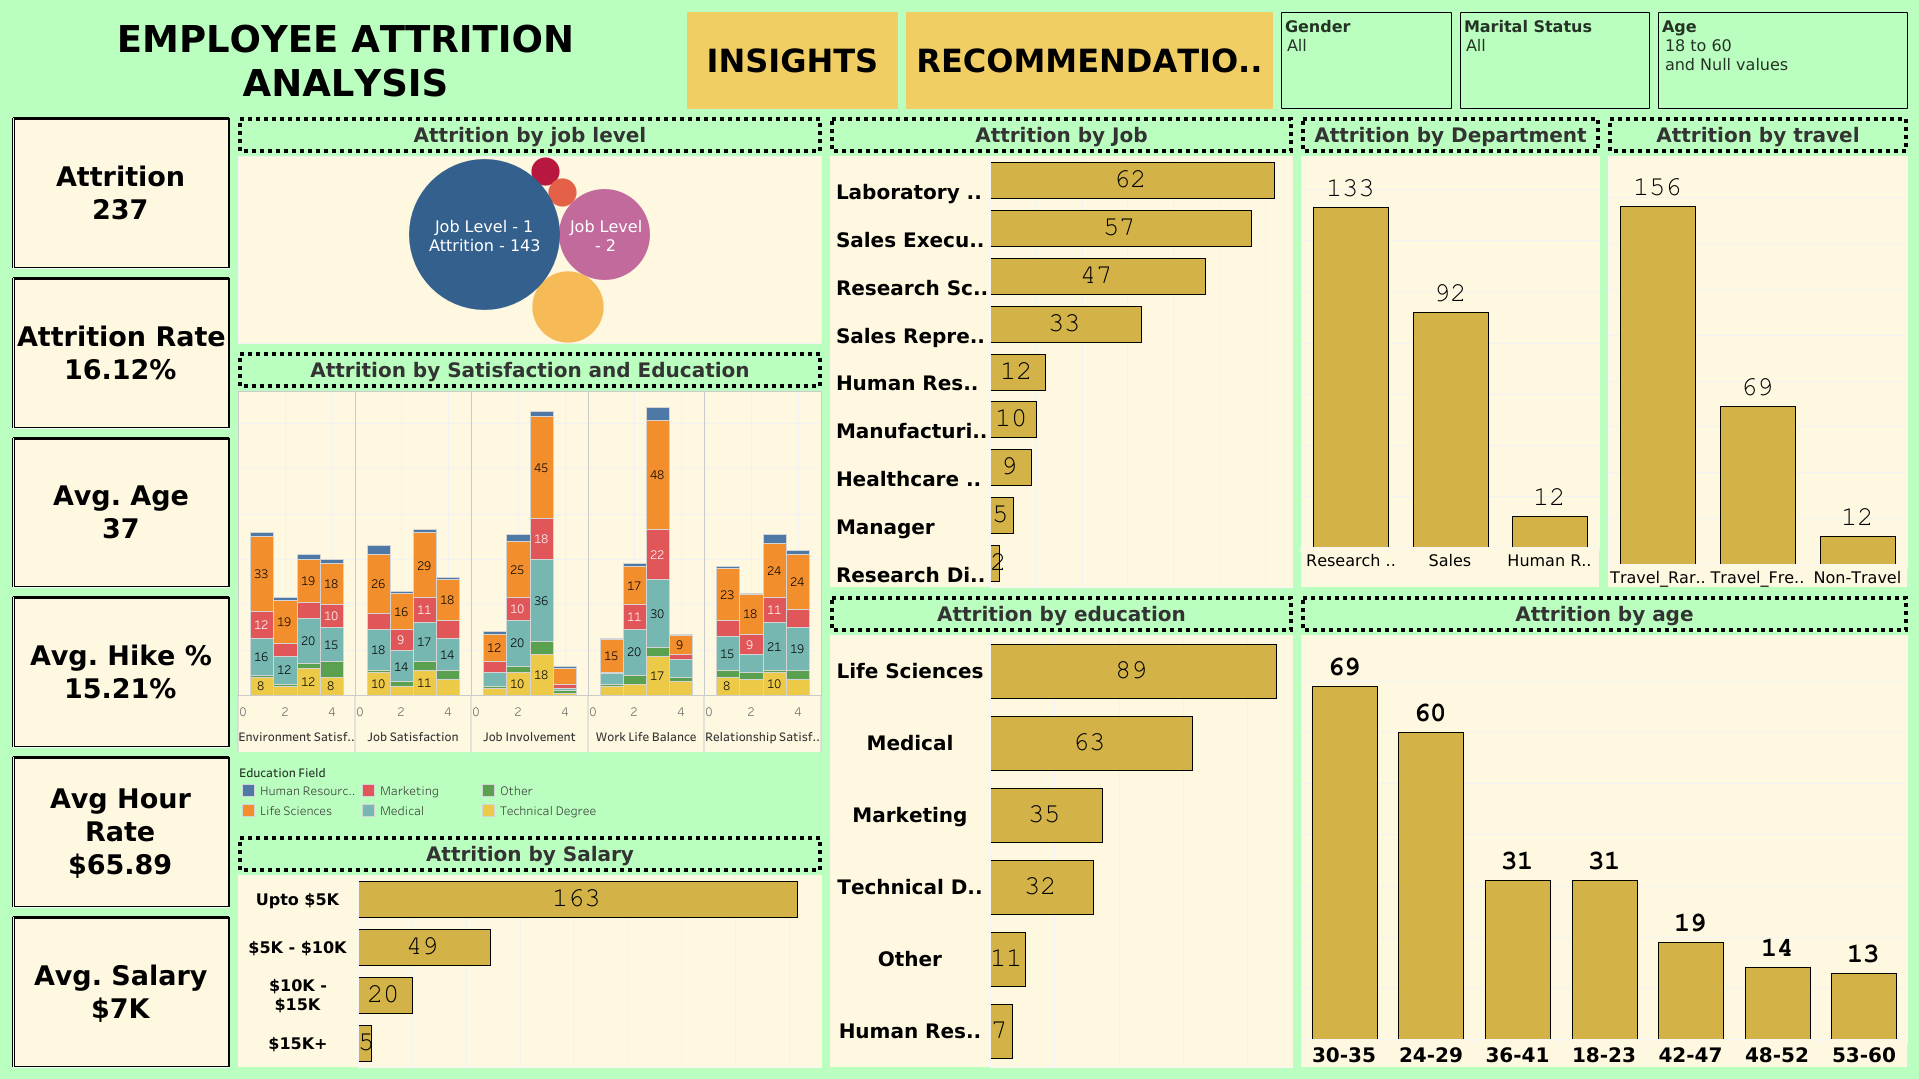

The dashboard page shown, as its layout file describes it:
{"tool":"tableau","page":{"name":"MainDash","canvas":[1920,1080],"ordinal":1},"visuals":[{"type":"text","box":[8,8,675,105]},{"type":"dashboard-object","box":[683,8,219,105]},{"type":"dashboard-object","box":[902,8,375.3,105]},{"type":"filter","title":"Attrition by age","param":"[federated.1jf0bww1b94yxp10xfckc0b016di].[none:Gender:nk]","box":[1277.3,8,179,105]},{"type":"filter","title":"Attrition by age","param":"[federated.1jf0bww1b94yxp10xfckc0b016di].[none:MaritalStatus:nk]","box":[1456.3,8,198,105]},{"type":"filter","title":"Attrition by travel","param":"[federated.1jf0bww1b94yxp10xfckc0b016di].[none:Age:qk]","box":[1654.3,8,257.6,105]},{"type":"worksheet","title":"Attrition","mark":"Automatic","box":[8,113,226,159.8]},{"type":"worksheet","title":"Attrition by job level","mark":"Circle","box":[234,113,592,235]},{"type":"worksheet","title":"Attrition by Job","mark":"Automatic","rows":["JobRole"],"cols":["Calculation_1187261483046543360"],"box":[826,113,471,479.5]},{"type":"worksheet","title":"Attrition by Department","mark":"Automatic","rows":["Calculation_1187261483046543360"],"cols":["Department"],"box":[1297,113,307.5,479.5]},{"type":"worksheet","title":"Attrition by travel","mark":"Automatic","rows":["Calculation_1187261483046543360"],"cols":["BusinessTravel"],"box":[1604.5,113,307.5,479.5]},{"type":"text","box":[675,139,527,314]},{"type":"worksheet","title":"Attrition Rate","mark":"Automatic","box":[8,272.8,226,159.8]},{"type":"worksheet","title":"Attrition by Satisfaction","mark":"Bar","rows":["Calculation_1187261483046543360"],"cols":["EnvironmentSatisfaction","JobSatisfaction","JobInvolvement","WorkLifeBalance","RelationshipSatisfaction"],"box":[234,348,592,409.2]},{"type":"worksheet","title":"Avg. Age","mark":"Automatic","box":[8,432.6,226,159.8]},{"type":"worksheet","title":"Avg Percent Hike","mark":"Automatic","box":[8,592.5,226,159.8]},{"type":"worksheet","title":"Attrition by education","mark":"Automatic","rows":["EducationField"],"cols":["Calculation_1187261483046543360"],"box":[826,592.5,471,479.5]},{"type":"worksheet","title":"Attrition by age","mark":"Automatic","rows":["Calculation_1187261483046543360"],"cols":["Calculation_1187261483055939586"],"box":[1297,592.5,615,479.5]},{"type":"worksheet","title":"Avg. hourly rate","mark":"Automatic","box":[8,752.3,226,159.8]},{"type":"legend","title":"Attrition by Satisfaction","param":"[federated.1jf0bww1b94yxp10xfckc0b016di].[none:EducationField:nk]","box":[234,757.2,592,75]},{"type":"worksheet","title":"Attrition by Salary","mark":"Automatic","rows":["Calculation_1347702220395798530"],"cols":["Calculation_1187261483046543360"],"box":[234,832.2,592,239.8]},{"type":"worksheet","title":"Avg. Salary","mark":"Automatic","box":[8,912.1,226,159.8]}]}

Visuals, with their boxes in screenshot pixels (x1, y1, x2, y2), scaled from the page's 1920x1080 canvas onto the 1919x1079 screenshot:
text: x1=8 y1=8 x2=683 y2=113
dashboard-object: x1=683 y1=8 x2=902 y2=113
dashboard-object: x1=902 y1=8 x2=1277 y2=113
"Attrition by age" filter: x1=1277 y1=8 x2=1456 y2=113
"Attrition by age" filter: x1=1456 y1=8 x2=1653 y2=113
"Attrition by travel" filter: x1=1653 y1=8 x2=1911 y2=113
"Attrition" worksheet: x1=8 y1=113 x2=234 y2=273
"Attrition by job level" worksheet (Circle marks): x1=234 y1=113 x2=826 y2=348
"Attrition by Job" worksheet: x1=826 y1=113 x2=1296 y2=592
"Attrition by Department" worksheet: x1=1296 y1=113 x2=1604 y2=592
"Attrition by travel" worksheet: x1=1604 y1=113 x2=1911 y2=592
text: x1=675 y1=139 x2=1201 y2=453
"Attrition Rate" worksheet: x1=8 y1=273 x2=234 y2=432
"Attrition by Satisfaction" worksheet (Bar marks): x1=234 y1=348 x2=826 y2=756
"Avg. Age" worksheet: x1=8 y1=432 x2=234 y2=592
"Avg Percent Hike" worksheet: x1=8 y1=592 x2=234 y2=752
"Attrition by education" worksheet: x1=826 y1=592 x2=1296 y2=1071
"Attrition by age" worksheet: x1=1296 y1=592 x2=1911 y2=1071
"Avg. hourly rate" worksheet: x1=8 y1=752 x2=234 y2=911
"Attrition by Satisfaction" legend: x1=234 y1=756 x2=826 y2=831
"Attrition by Salary" worksheet: x1=234 y1=831 x2=826 y2=1071
"Avg. Salary" worksheet: x1=8 y1=911 x2=234 y2=1071
